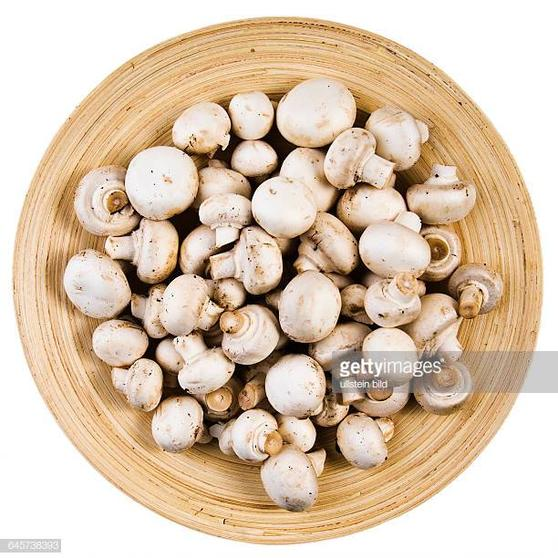champignon: (51, 244, 133, 326), (71, 159, 147, 241), (271, 80, 360, 150), (127, 141, 202, 223), (153, 274, 236, 342), (357, 209, 432, 283), (320, 126, 400, 193), (278, 266, 344, 347), (259, 439, 329, 515), (256, 347, 327, 421), (169, 99, 238, 162), (332, 408, 399, 472), (356, 322, 416, 385)
